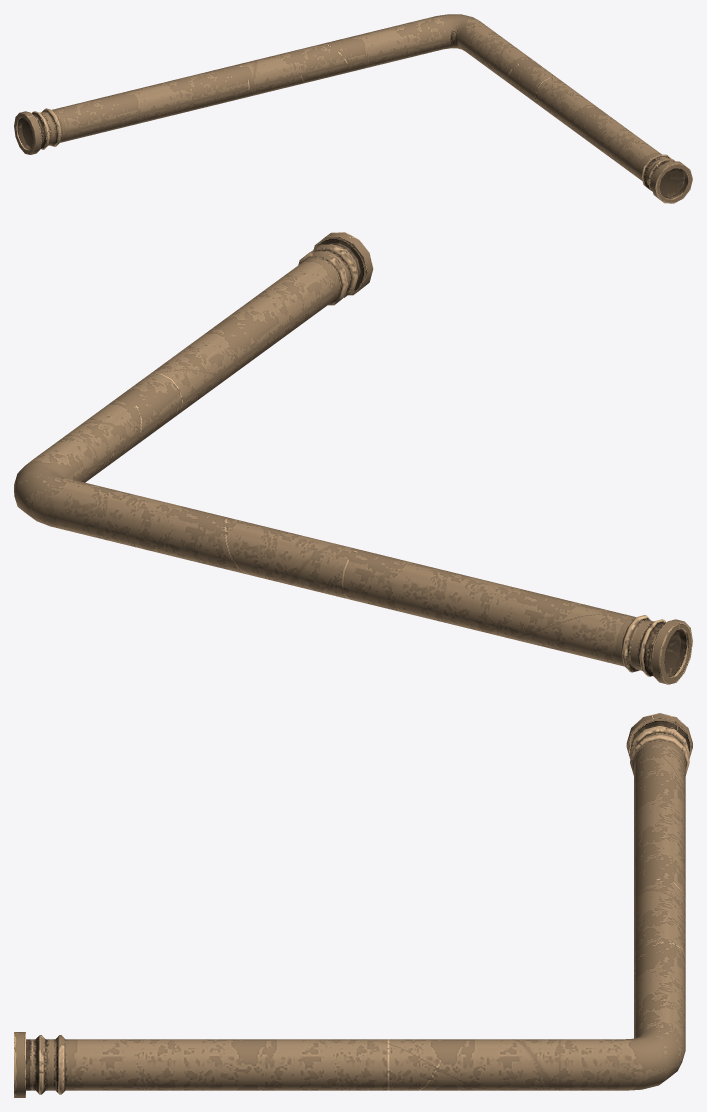
File: pipe13.FBX
The picture shows the model from 3 angles, top to bottom: view 1: azimuth 30°, elevation 25°; view 2: azimuth 150°, elevation 25°; view 3: azimuth 270°, elevation 25°; orthographic projection. The views are drawn at different scales.
Parts seen in each view (by area): view 1: pipe13; view 2: pipe13; view 3: pipe13.
Boxes of the visible parts, x1,y1,x2,y2 form: pipe13: (14, 14, 692, 203); pipe13: (14, 232, 692, 684); pipe13: (14, 713, 692, 1097).
Size of the model in its own units: 193 by 16.09 by 165.
